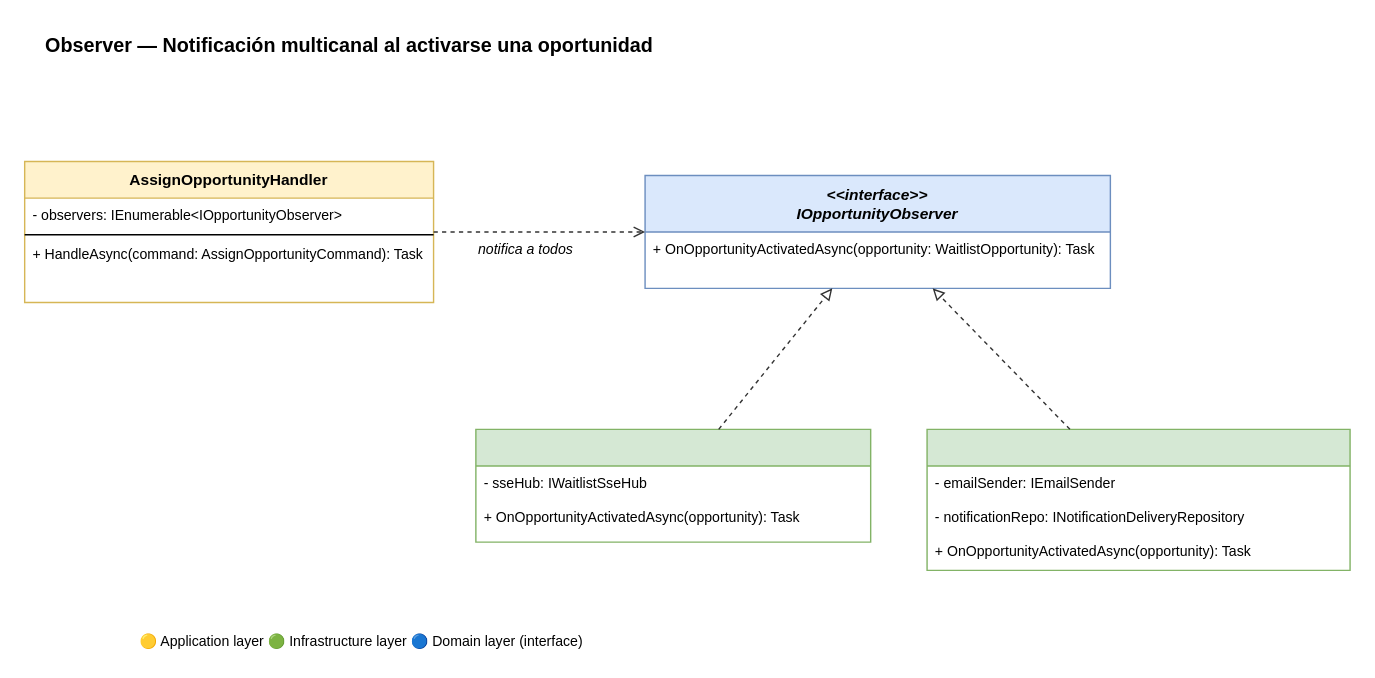
Some shapes in this 1375 by 678 pixel diagram are drawn without their labels. Each missing label, with the box of its shape:
EmailNotificationObserver: (926, 428, 1350, 570)
SseNotificationObserver: (474, 428, 871, 542)
